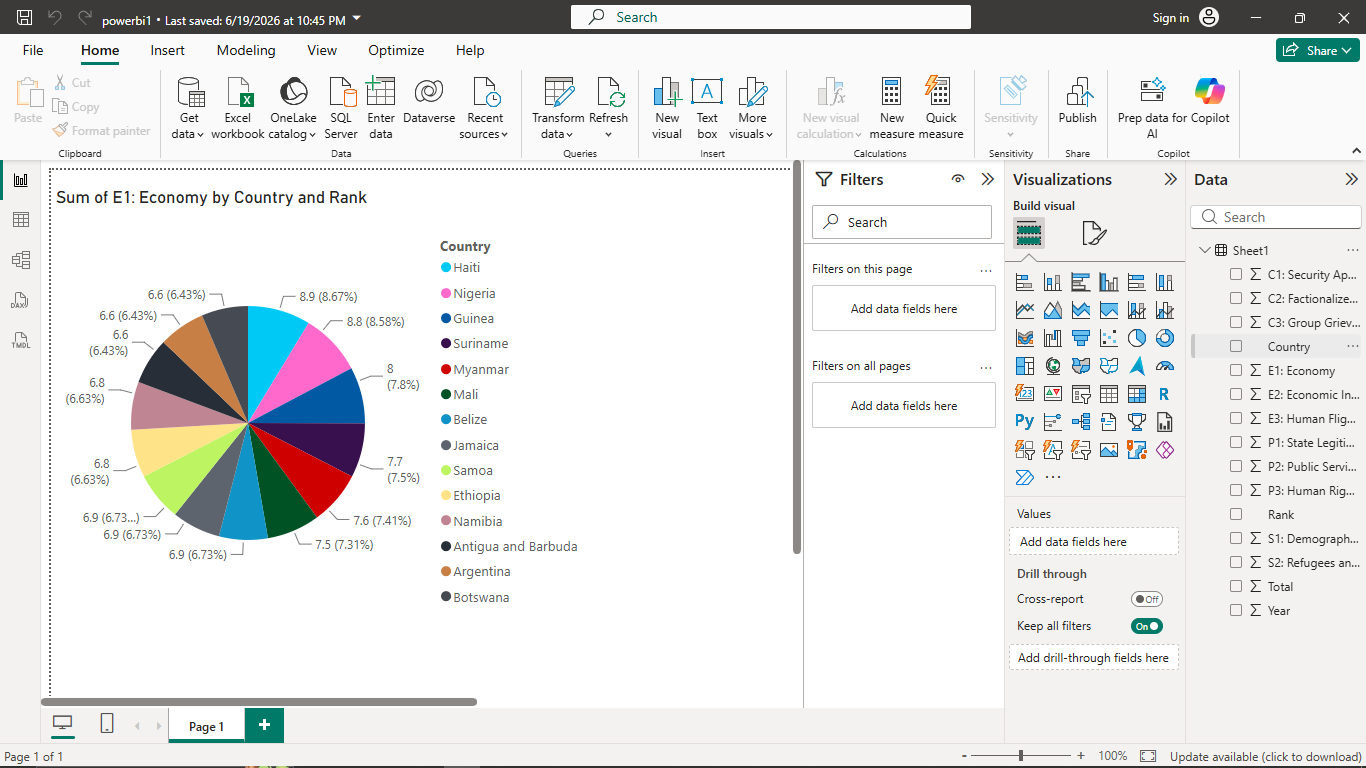

What the dashboard file says about the page in this screenshot:
{"tool":"powerbi","page":{"name":"Page 1","canvas":[1280,720],"ordinal":0},"visuals":[{"type":"pieChart","fields":{"Category":["Sheet1.Country"],"Y":["Sum(Sheet1.E1: Economy)"],"Series":["Sheet1.Rank"]},"box":[0,16.8,540.9,453.5],"z":0}]}

Visuals, with their boxes on the page's 1280x720 design canvas (x1, y1, x2, y2). These are canvas units, not pixel positions in the 1366x768 screenshot, which may show the page scaled, cropped or inside an application window:
pieChart - Sheet1.Country x Sum(Sheet1.E1: Economy): 0:17:541:470
